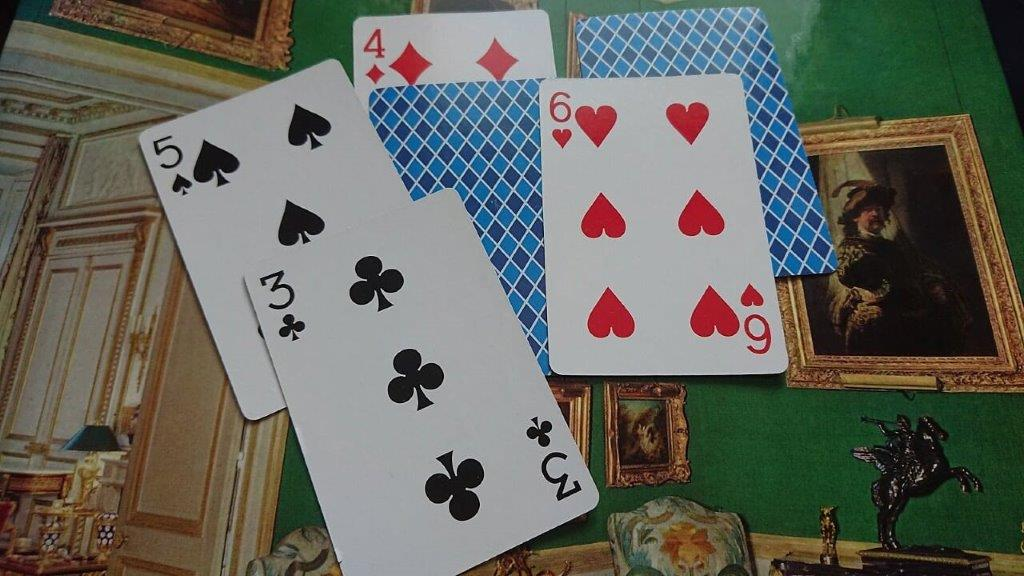3C: (254, 267, 309, 344)
4D: (361, 24, 388, 86)
5S: (149, 132, 196, 200)
6H: (546, 89, 575, 152)
BACK: (573, 5, 783, 73), (367, 76, 537, 119)
